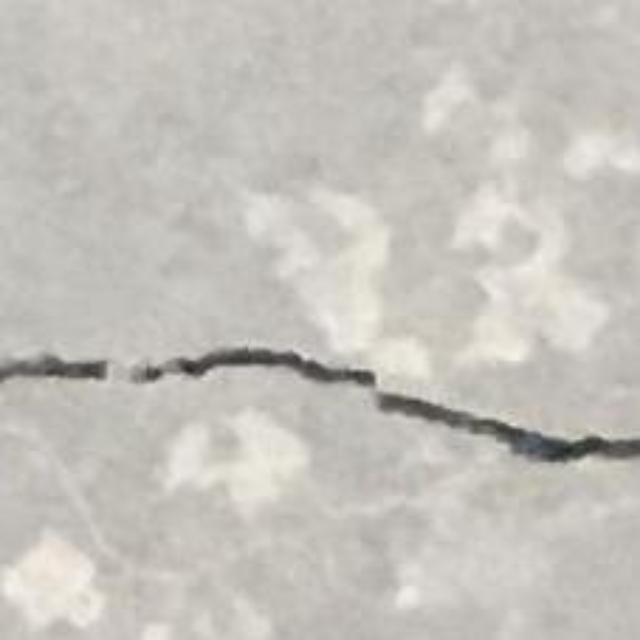crack: (0, 344, 639, 465)
peeling plaster: (243, 105, 608, 391), (0, 531, 104, 631)
